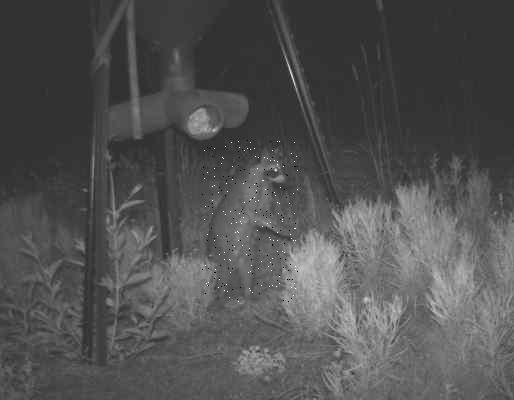Raccoon: (201, 141, 297, 303)
